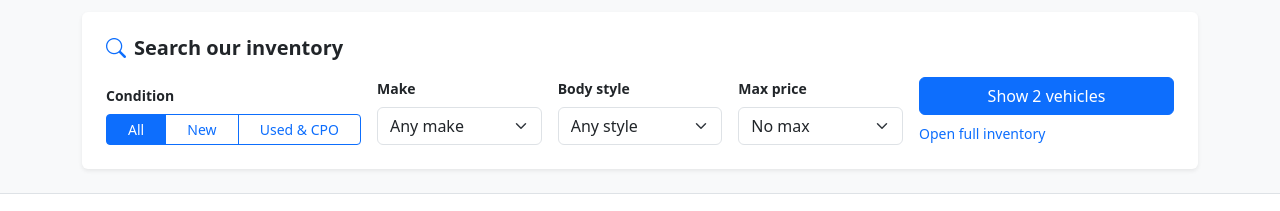
VehicleSearch › button count drops when the filter excludes the truck
The image size is (1280, 211).
expect the submit button shows "2 vehicles": met, box [919,77,1174,115]
Select "Toyota" in the dropdown with id "search-make": [459, 126] box [377,107,542,145]
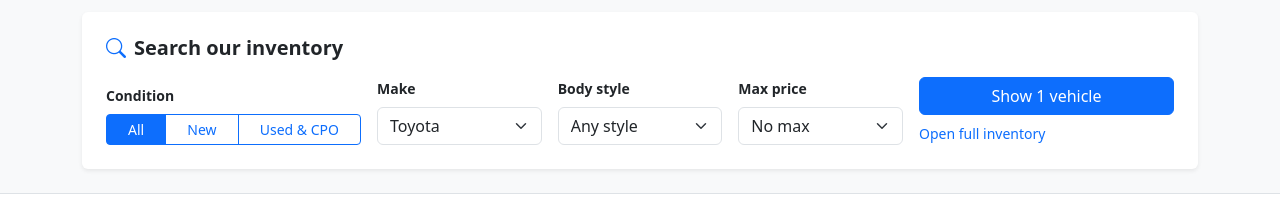
expect the submit button shows "1 vehicle": met, box [919,77,1174,115]
